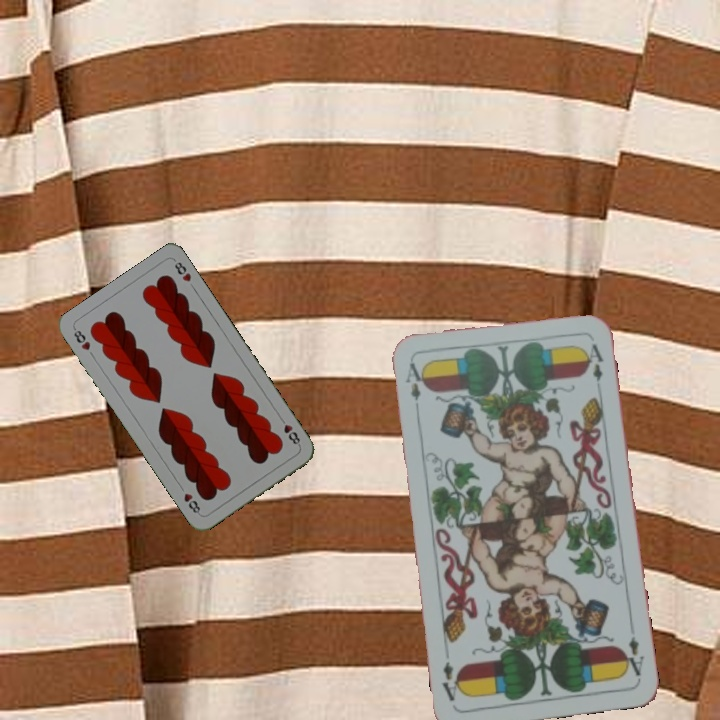EA: (619, 633, 647, 679), (401, 358, 423, 404)
H8: (275, 413, 303, 449), (70, 325, 93, 353)
